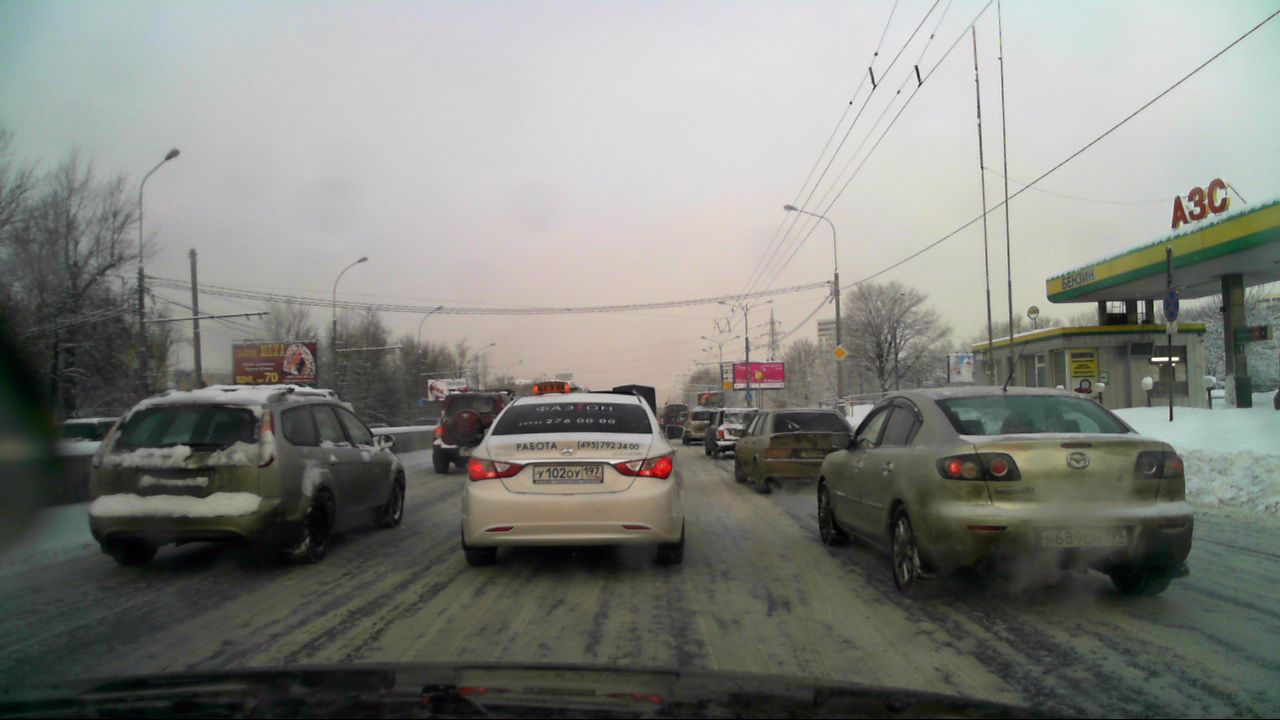No Parking: (1159, 289, 1184, 323)
